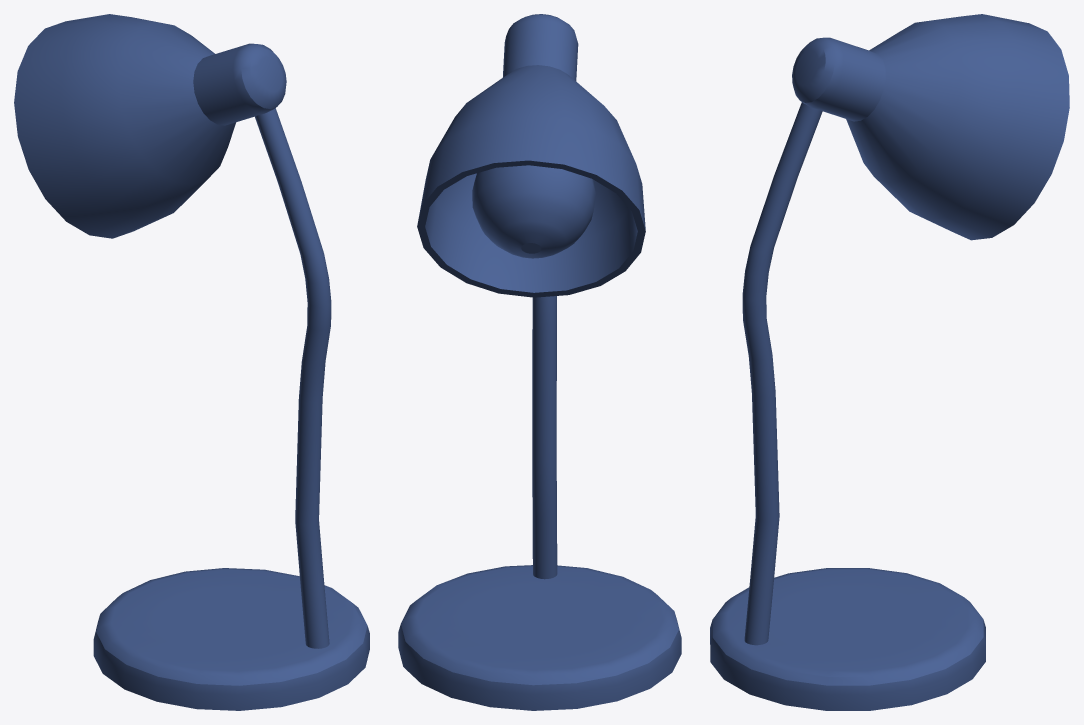
The model's file is Luz estudio.fbx.
The picture shows the model from 3 angles, left to right: view 1: azimuth 30°, elevation 25°; view 2: azimuth 150°, elevation 25°; view 3: azimuth 270°, elevation 25°; orthographic projection. The views are drawn at different scales.
Visible parts, largest first — view 1: polySurface372; view 2: polySurface372; view 3: polySurface372.
Part boxes in pixels (left/top/right/bottom): polySurface372: left=14, top=14, right=369, bottom=710; polySurface372: left=398, top=14, right=681, bottom=710; polySurface372: left=710, top=14, right=1069, bottom=710.
Size of the model in its own units: 16.36 by 34.9 by 18.45.
